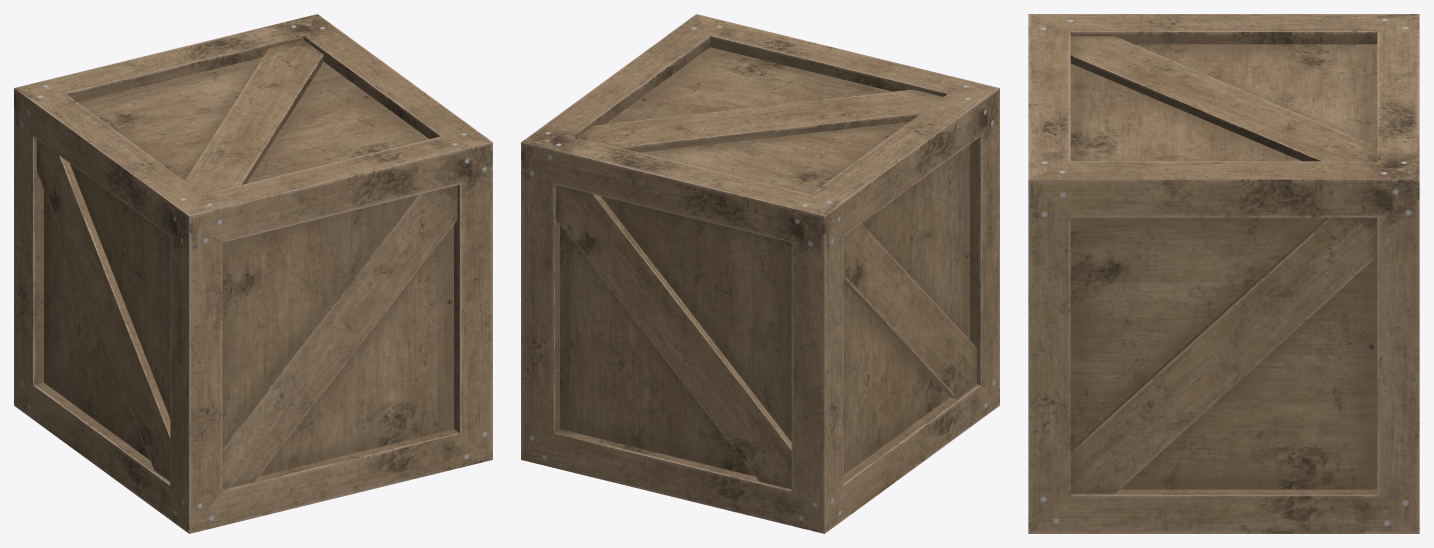
File: crate.glb
The picture shows the model from 3 angles, left to right: view 1: azimuth 30°, elevation 25°; view 2: azimuth 150°, elevation 25°; view 3: azimuth 270°, elevation 25°; orthographic projection. The views are drawn at different scales.
Visible parts, largest first — view 1: crate; view 2: crate; view 3: crate.
Part boxes in pixels (x1,y1,x2,y2): crate: (14,14,492,533); crate: (521,14,999,533); crate: (1028,14,1419,533).
Size of the model in its own units: 1 by 1 by 1.
Materials: 1 (1 with a texture image).
